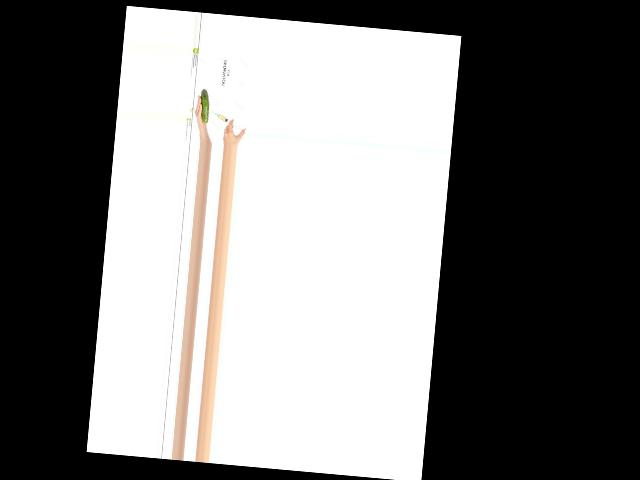cucumber: (198, 89, 210, 123)
